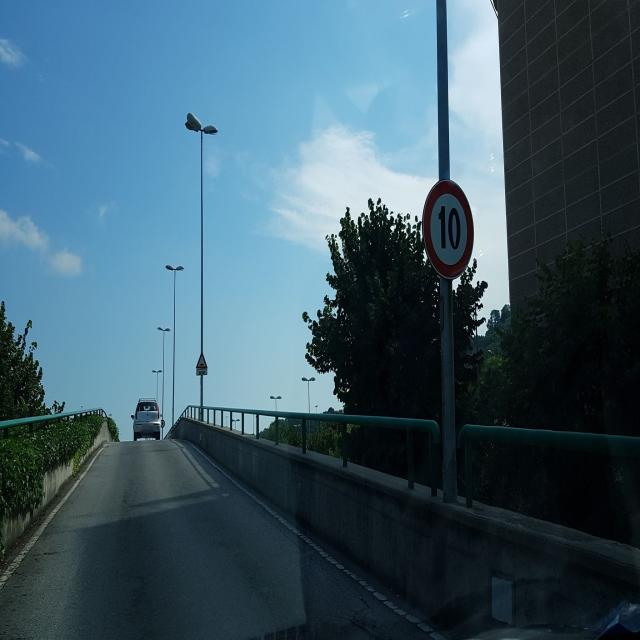car: (132, 397, 164, 442)
